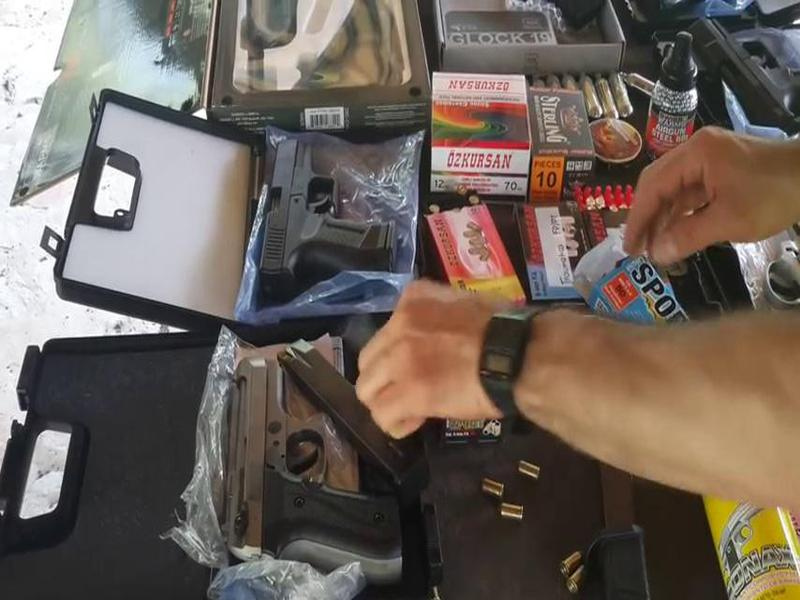Pistola: (200, 337, 417, 568), (259, 119, 421, 298)
